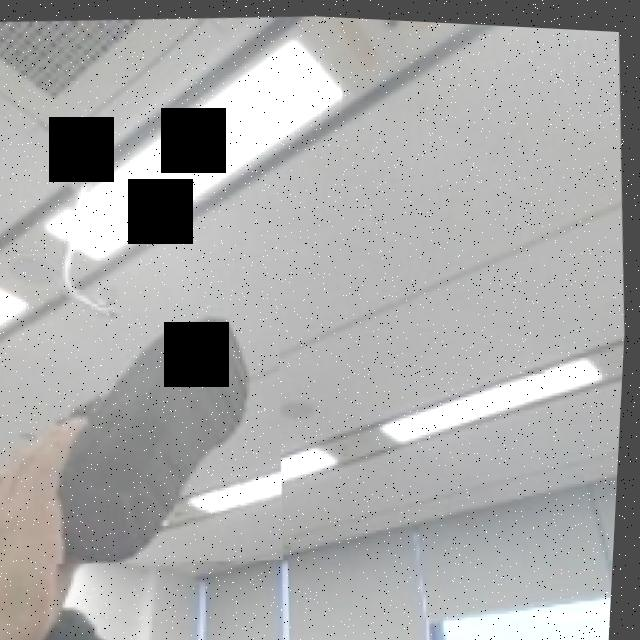shoe: (9, 271, 300, 574)
